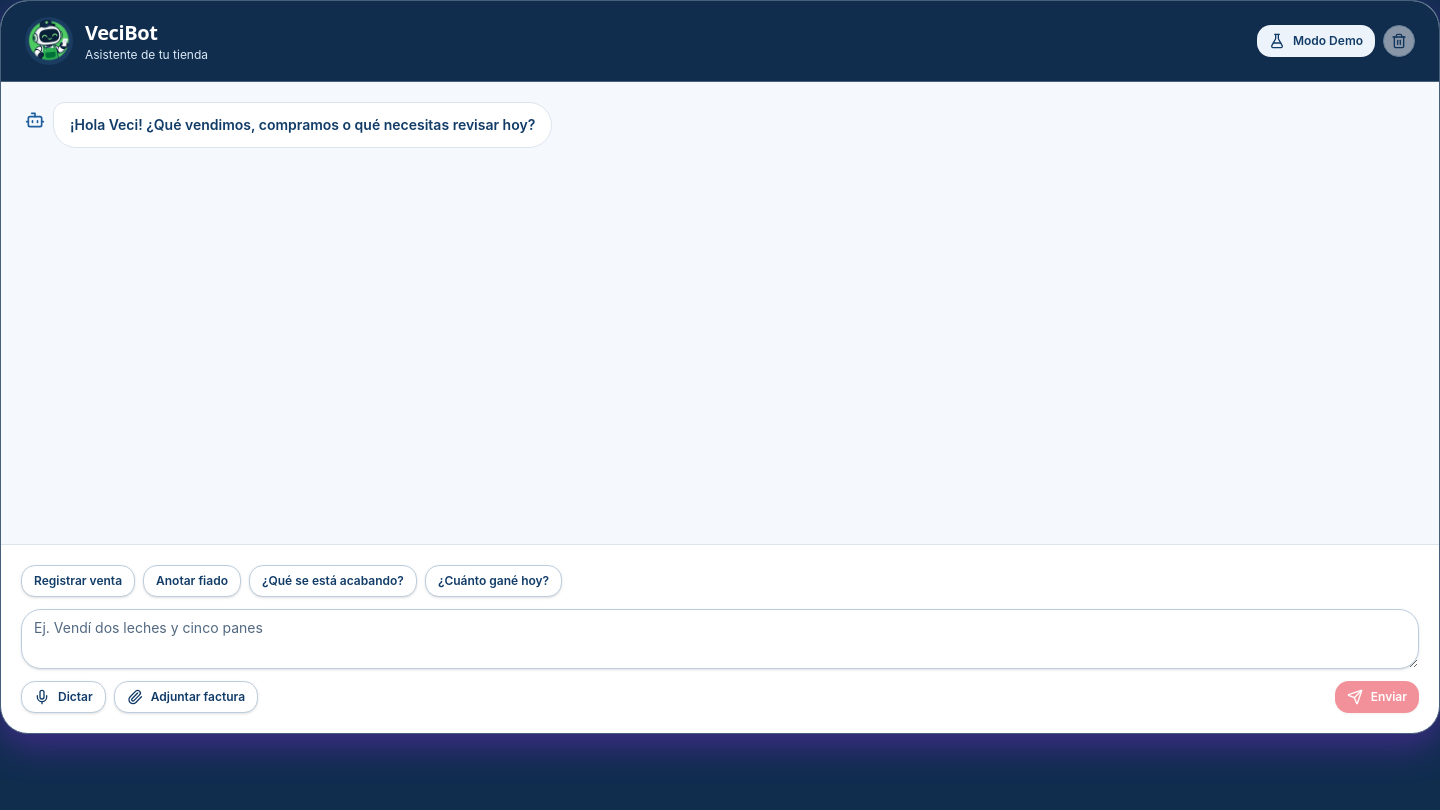
pide confirmación antes de guardar, permite corregir una cantidad y usa la misma API que Ventas
Expected: the text "¡Hola Veci! ¿Qué vendimos, compramos o qué necesitas revisar hoy?" is shown, [53,102,552,148]
Click the button "Modo Demo": [1316, 41] box [1257,25,1375,57]
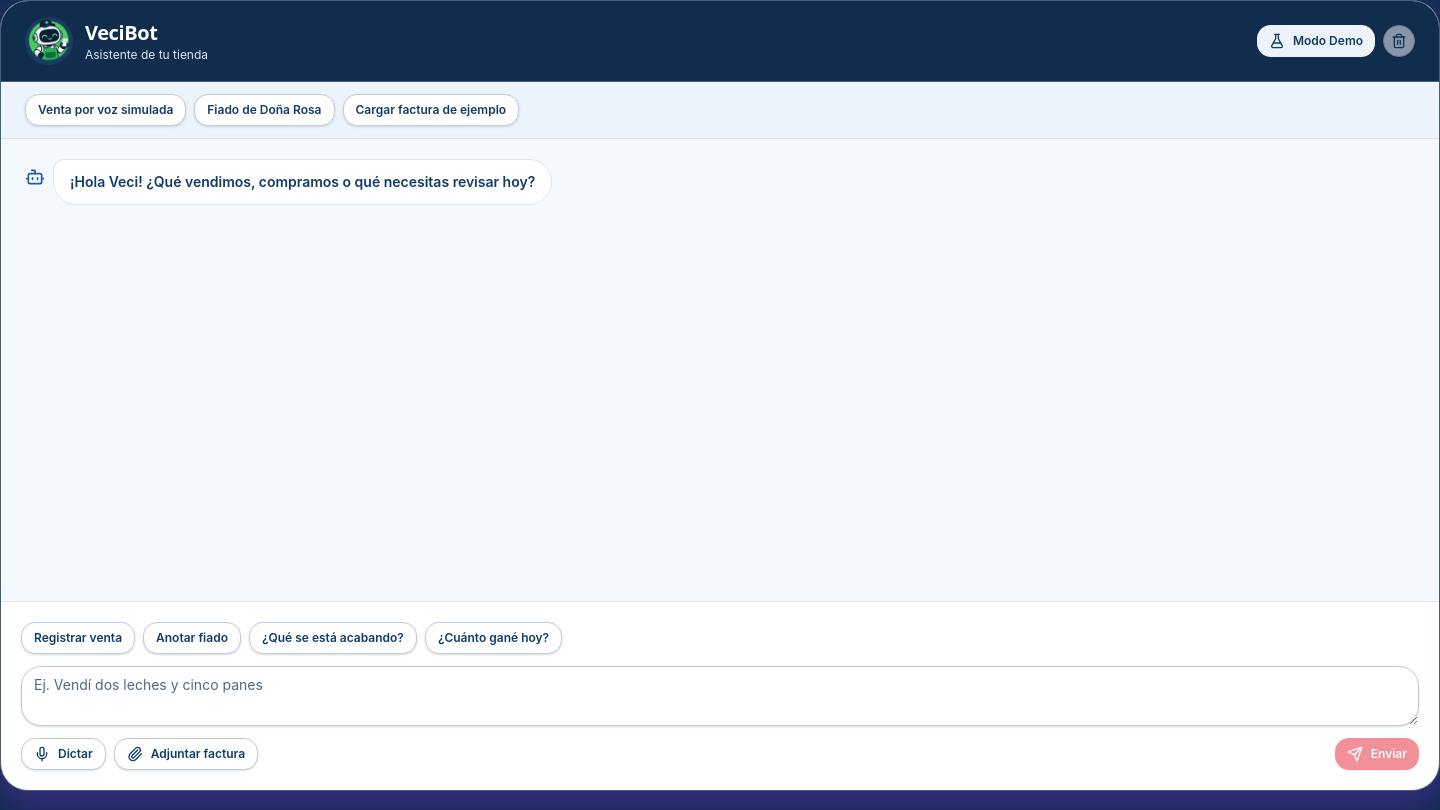
Click the button "Venta por voz simulada": [106, 110] box [25,94,186,126]
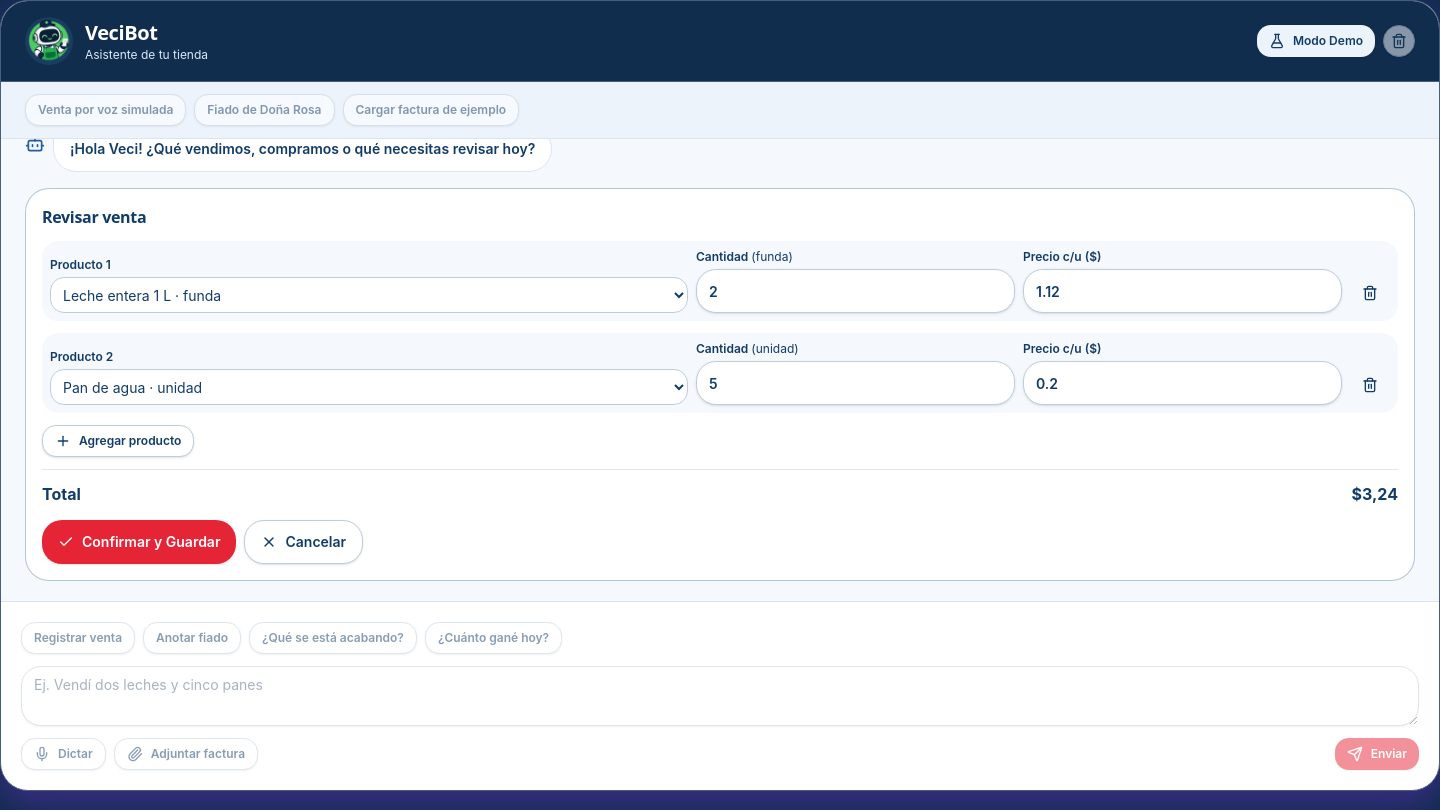
Now the heading "Revisar venta" is shown, box [42,206,146,228]
Replace the text in the field labelled "Cantidad (funda)" with "3": [856, 291] box [696,269,1015,313]
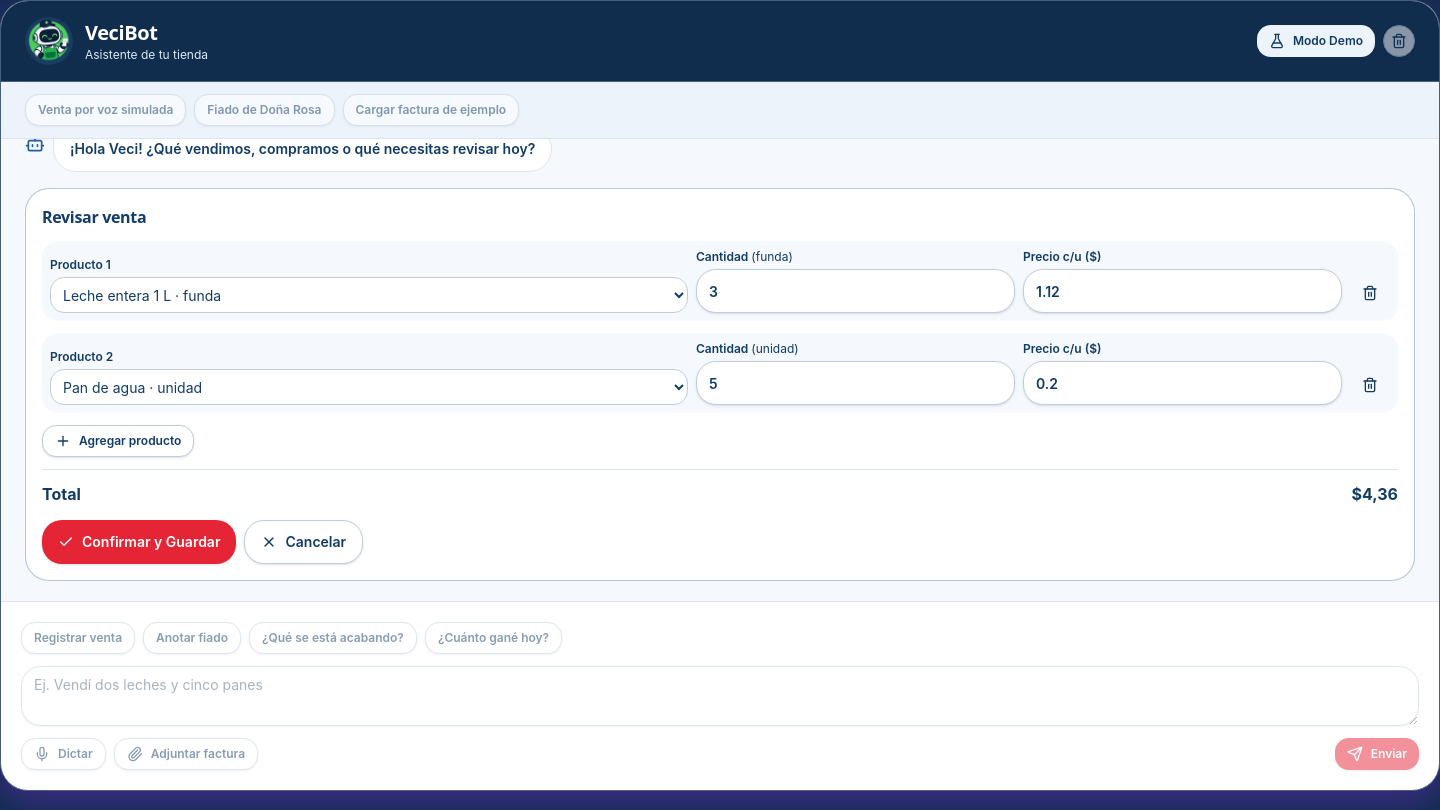
Click the button "Confirmar y Guardar": [139, 542] box [42,520,236,564]
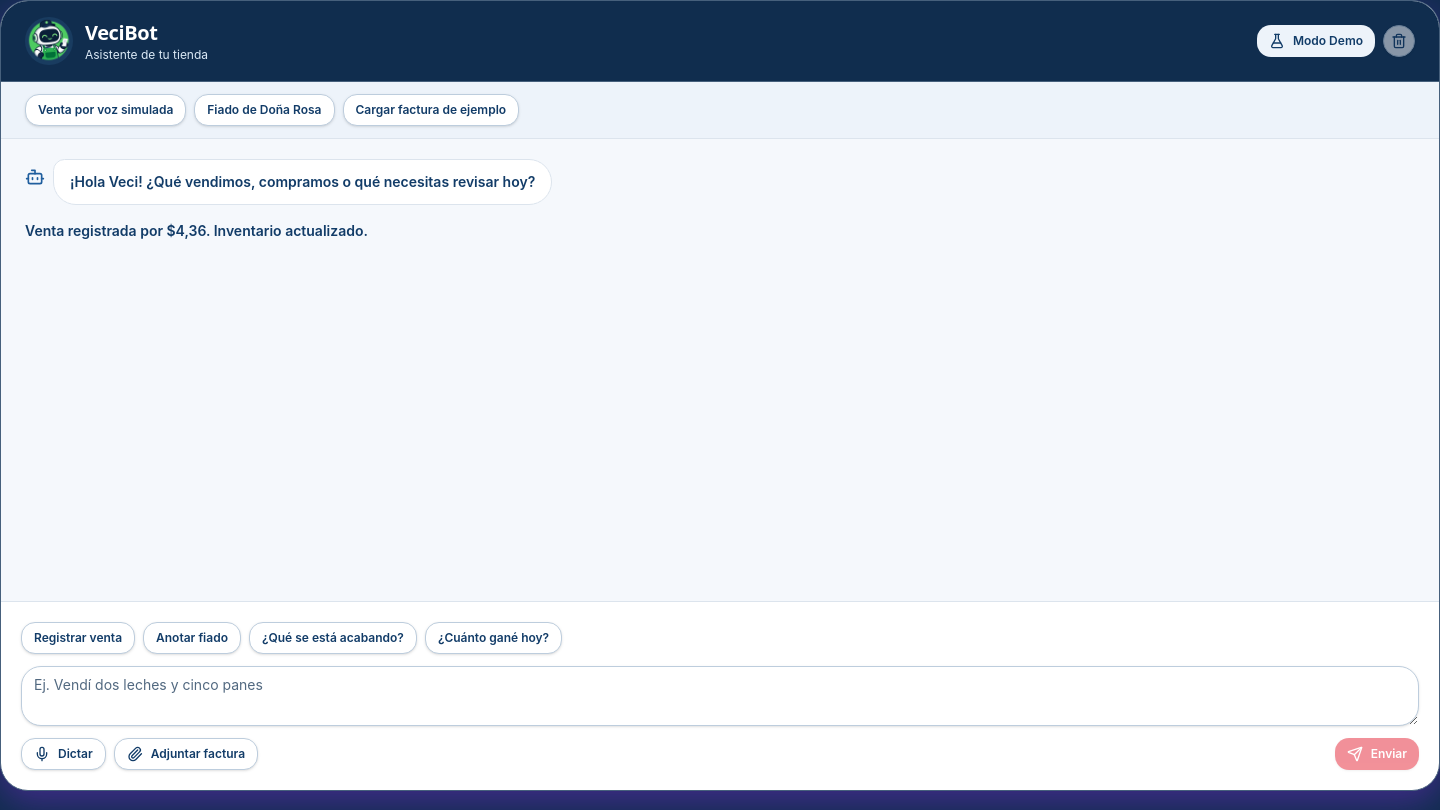
Now the text "Venta registrada por $4,36. Inventario actualizado." is shown, box [25,222,368,239]
